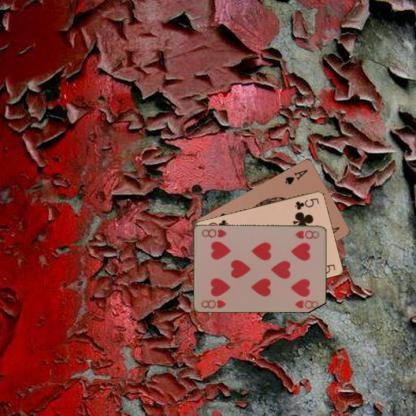5c: (292, 195, 320, 211)
8h: (293, 227, 321, 240), (199, 297, 227, 310)
As: (283, 166, 309, 186)
